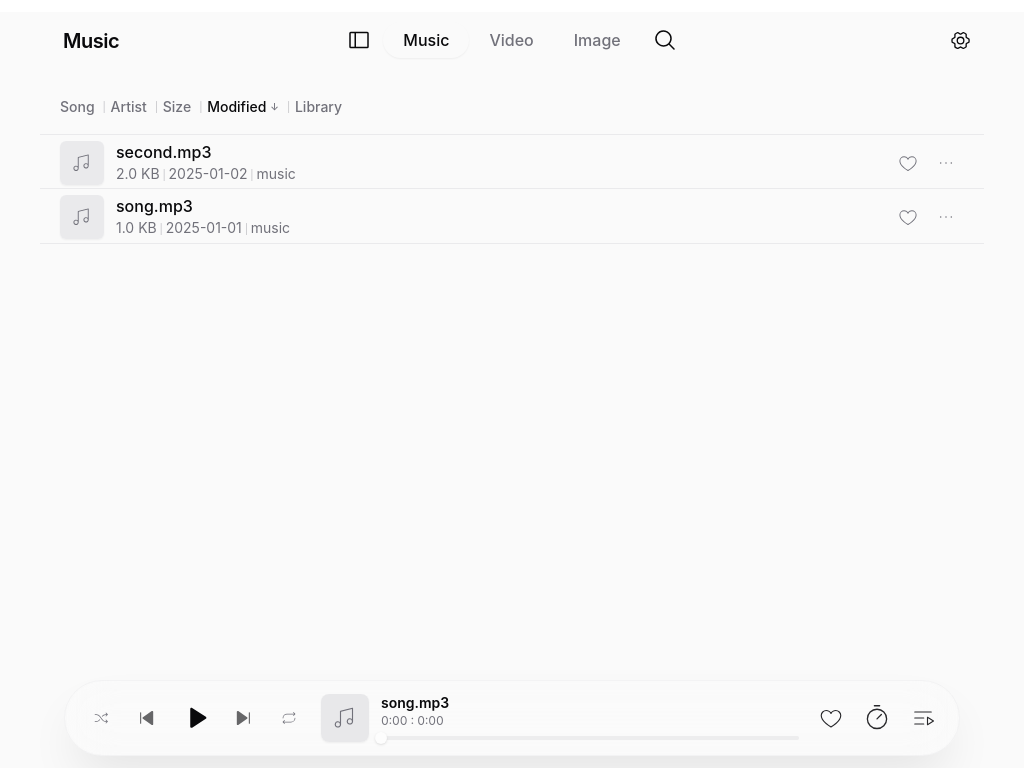
Test: App routes › opens the full player as an overlay over the existing library route
This screenshot has width=1024, height=768.
Expected: the element with test id "mini-player" is shown, [0,680,1023,767]
Expected: the list with test id "library-list" is shown, [40,135,984,243]
Click the button with test id "open-full-player" at (345, 718), box [321,694,369,742]
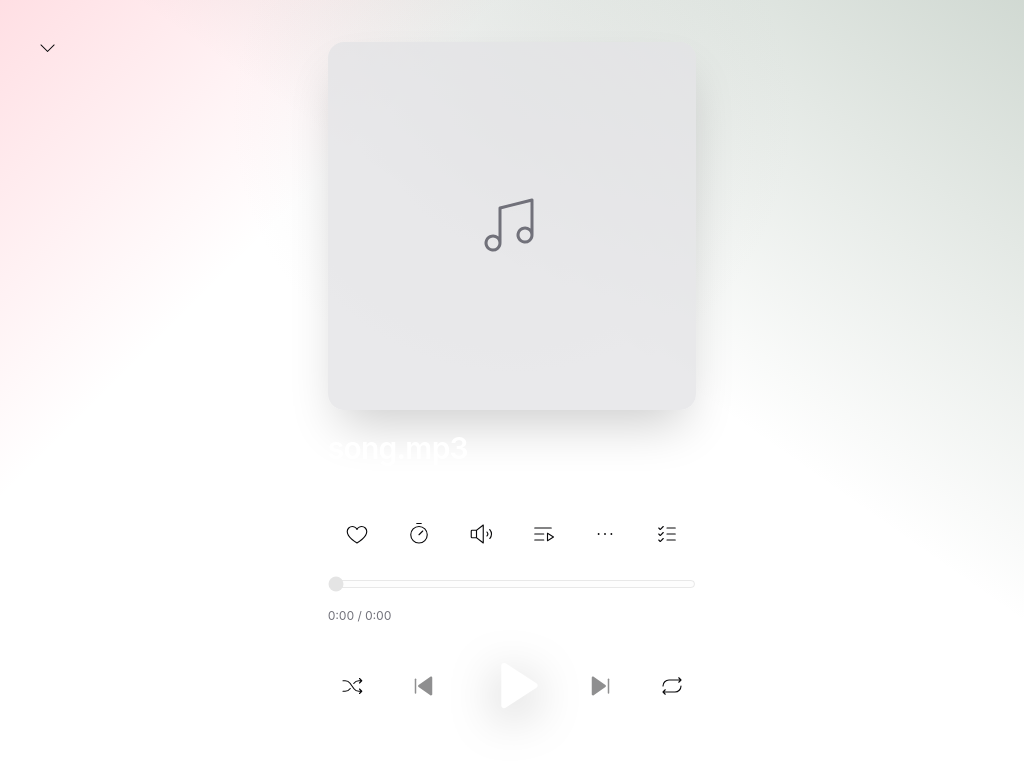
Expected: the element with test id "player-overlay" is shown
Expected: the element with test id "player-screen" is shown
Expected: the element with test id "mini-player" is gone
Press the mouse on the element with test id "player-screen" at (512, 384), box [0,0,1023,767]
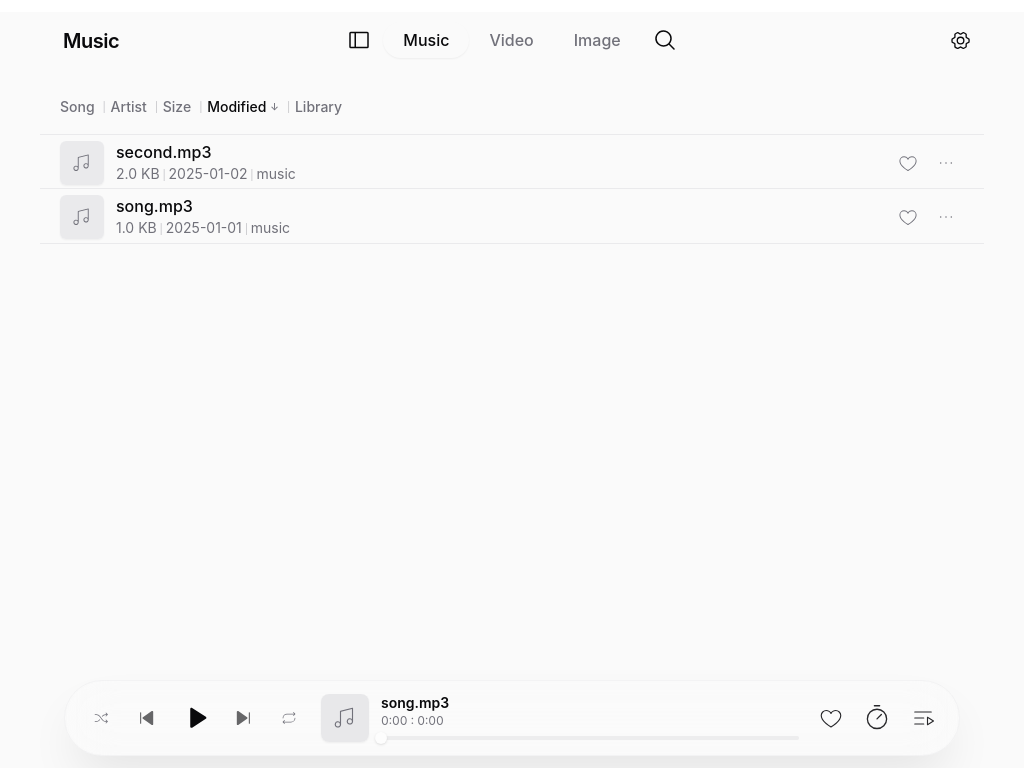
Expected: the element with test id "player-overlay" is gone
Expected: the element with test id "mini-player" is shown, [0,680,1023,767]
